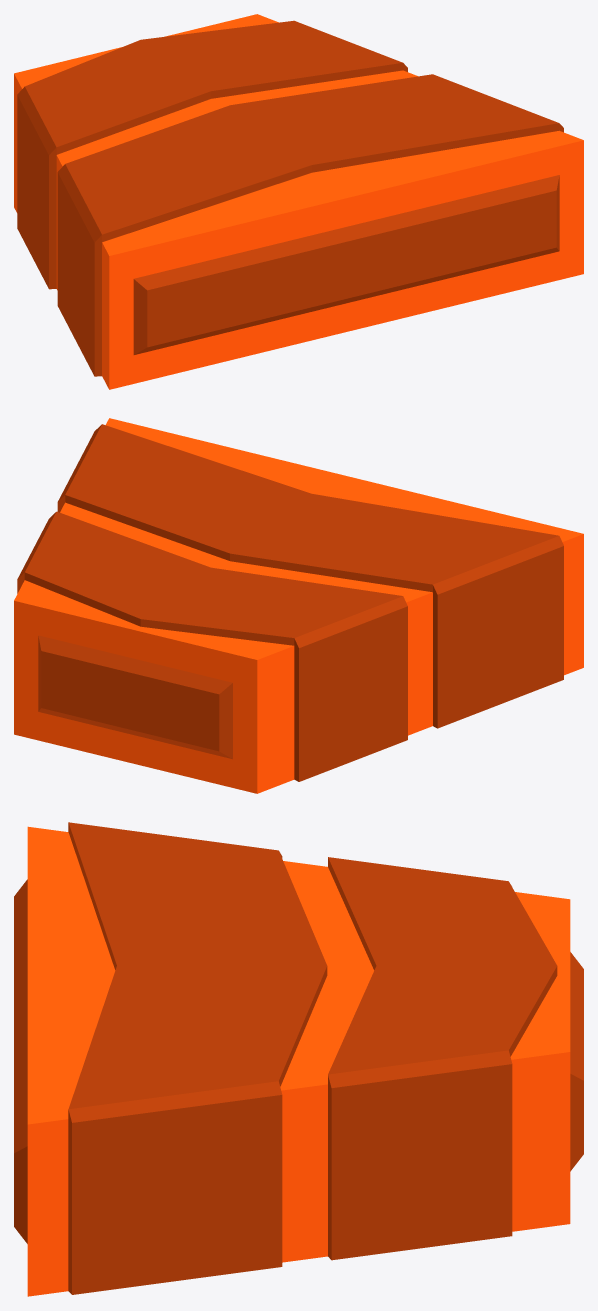
File: Trapezoid.fbx
3 views of the same model, one above another, from view 1: azimuth 30°, elevation 25°; view 2: azimuth 150°, elevation 25°; view 3: azimuth 270°, elevation 25° (orthographic). The views are drawn at different scales.
Parts seen in each view (by area): view 1: Trapezoid; view 2: Trapezoid; view 3: Trapezoid.
Part boxes in pixels (x1,y1,x2,y2): Trapezoid: [14, 14, 583, 389]; Trapezoid: [14, 418, 583, 793]; Trapezoid: [14, 822, 583, 1296].
Size of the model in its own units: 1.3 by 0.37 by 1.05.
